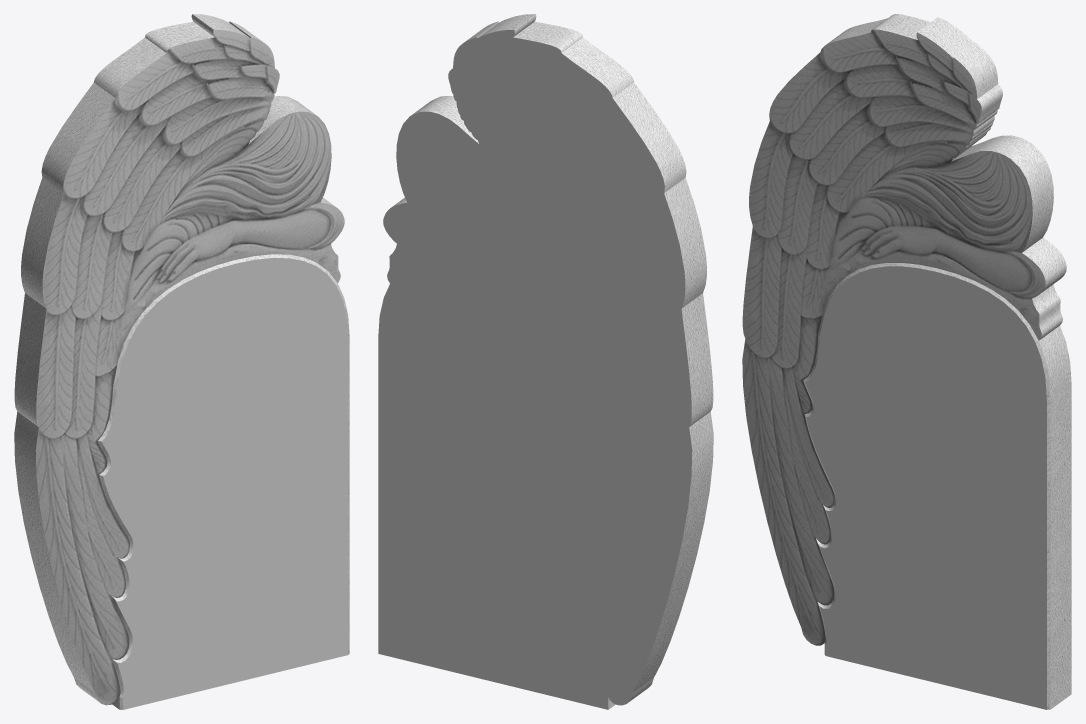
File: cn8a866831cb_tkf.glb
3 views of the same model, side by side, from view 1: azimuth 30°, elevation 25°; view 2: azimuth 150°, elevation 25°; view 3: azimuth 330°, elevation 25° (orthographic).
Parts seen in each view (by area): view 1: Pam-d01-001_2_notexture, Pam-d01-001; view 2: Pam-d01-001, Pam-d01-001_2_notexture; view 3: Pam-d01-001_2_notexture, Pam-d01-001.
Boxes of the visible parts, x1=… form: Pam-d01-001_2_notexture: x1=14, y1=14, x2=349, y2=709; Pam-d01-001: x1=102, y1=258, x2=348, y2=709; Pam-d01-001: x1=378, y1=29, x2=692, y2=709; Pam-d01-001_2_notexture: x1=391, y1=14, x2=713, y2=709; Pam-d01-001_2_notexture: x1=742, y1=14, x2=1071, y2=709; Pam-d01-001: x1=805, y1=266, x2=1046, y2=709.
Bounding box in the file's own units: 0.4 × 0.8 × 0.05.
Materials: 1 (1 with a texture image).
